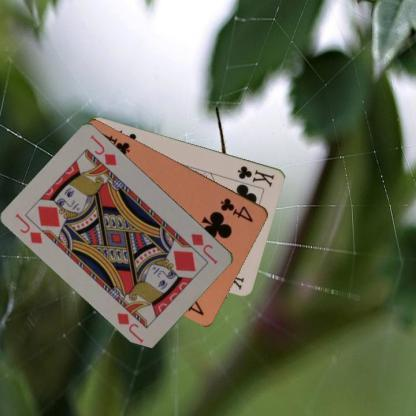4c: (218, 195, 255, 224)
Jd: (188, 230, 219, 266), (13, 210, 44, 246)
Kc: (235, 162, 276, 188)
